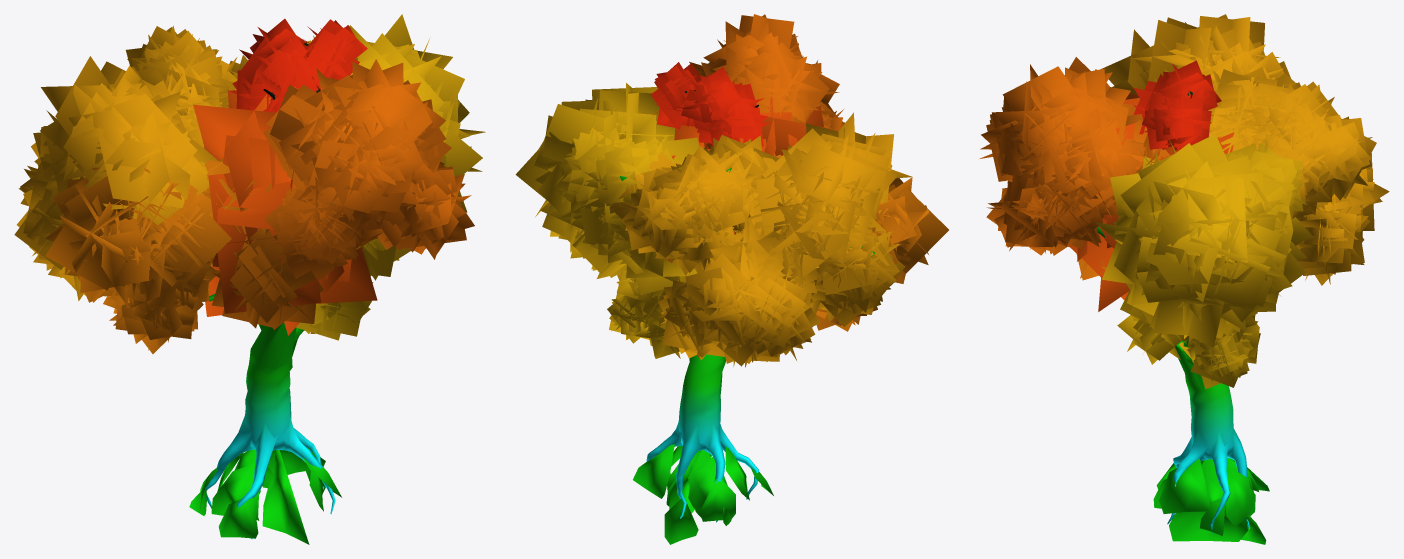
Rendered from BigTree4.fbx.
3 views of the same model, side by side, from view 1: azimuth 30°, elevation 25°; view 2: azimuth 150°, elevation 25°; view 3: azimuth 270°, elevation 25° (orthographic). The views are drawn at different scales.
Parts seen in each view (by area): view 1: BigTree4_LOD0; view 2: BigTree4_LOD0; view 3: BigTree4_LOD0.
Boxes of the visible parts, bbox=[...] form: BigTree4_LOD0: bbox=[14, 14, 485, 544]; BigTree4_LOD0: bbox=[515, 14, 948, 544]; BigTree4_LOD0: bbox=[979, 14, 1389, 544].
Size of what is drawn, in the model's own units: 2327 by 2671 by 2051.
